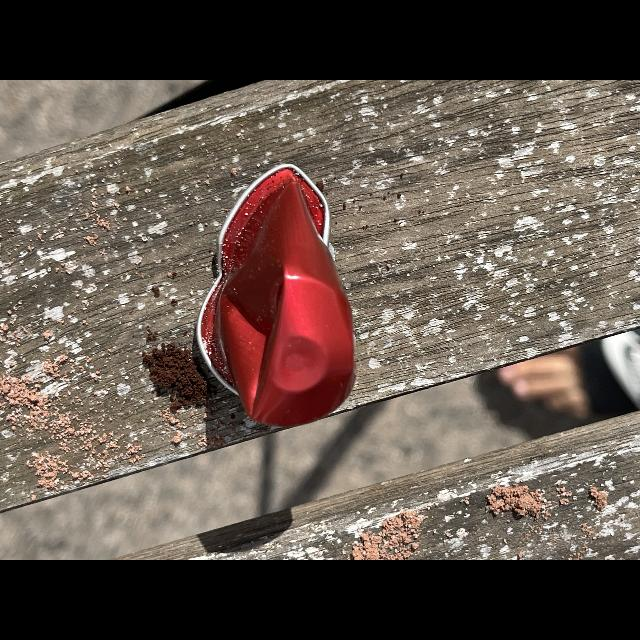damaged_capsule: (182, 160, 378, 432)
